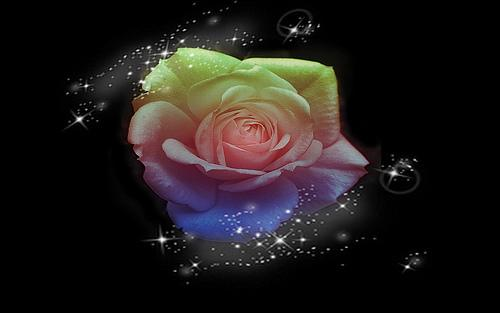Rose: (125, 49, 370, 245)
